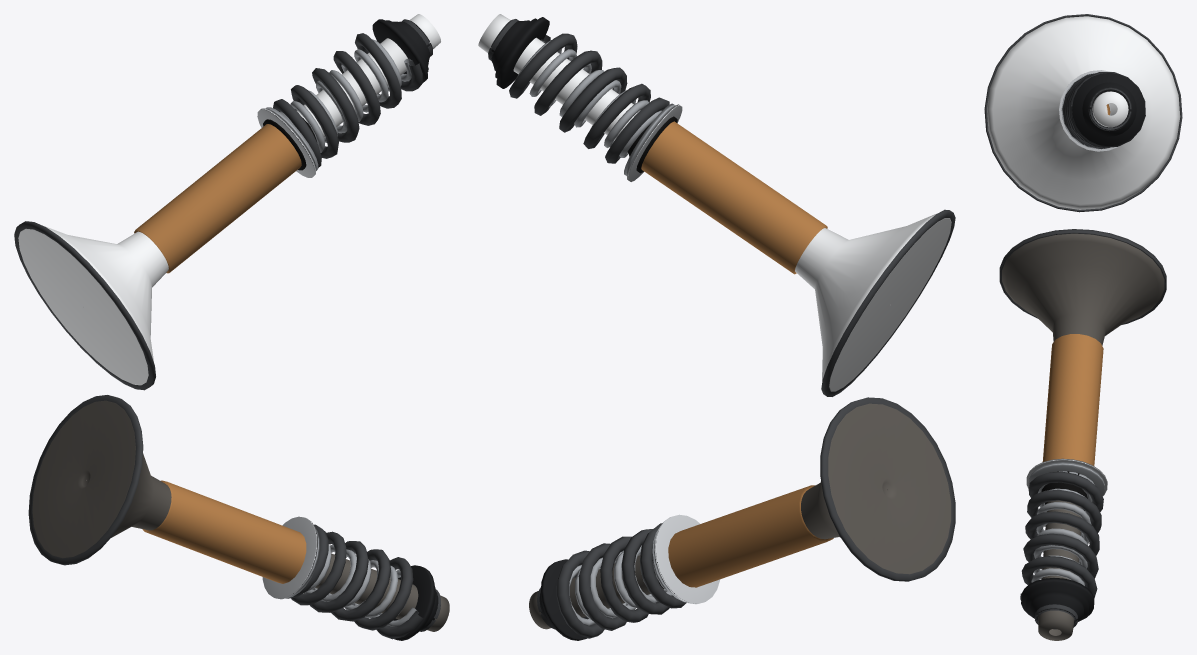
Rendered from valve-set-1.glb.
3 renders of one model, left to right at view 1: azimuth 30°, elevation 25°; view 2: azimuth 150°, elevation 25°; view 3: azimuth 270°, elevation 25°, orthographic. The views are drawn at different scales.
Visible parts, largest first — view 1: valve-set-1:bronze, valve-set-1:darkSteel, valve-set-1:chrome, valve-set-1:heatSteel, valve-set-1:steel, valve-set-1:satinBlack, valve-set-1:polishedSteel; view 2: valve-set-1:bronze, valve-set-1:darkSteel, valve-set-1:heatSteel, valve-set-1:chrome, valve-set-1:steel, valve-set-1:satinBlack, valve-set-1:polishedSteel; view 3: valve-set-1:chrome, valve-set-1:heatSteel, valve-set-1:darkSteel, valve-set-1:bronze, valve-set-1:satinBlack, valve-set-1:steel, valve-set-1:polishedSteel, valve-set-1:rubber.
Boxes of the visible parts, x1=… form: valve-set-1:bronze: x1=134, y1=124, x2=306, y2=583; valve-set-1:darkSteel: x1=14, y1=19, x2=440, y2=639; valve-set-1:chrome: x1=18, y1=14, x2=440, y2=385; valve-set-1:heatSteel: x1=32, y1=400, x2=449, y2=631; valve-set-1:steel: x1=266, y1=39, x2=416, y2=626; valve-set-1:satinBlack: x1=372, y1=19, x2=438, y2=640; valve-set-1:polishedSteel: x1=257, y1=108, x2=317, y2=599; valve-set-1:bronze: x1=641, y1=121, x2=833, y2=587; valve-set-1:darkSteel: x1=488, y1=19, x2=955, y2=638; valve-set-1:heatSteel: x1=529, y1=403, x2=951, y2=629; valve-set-1:chrome: x1=478, y1=14, x2=951, y2=391; valve-set-1:steel: x1=516, y1=40, x2=685, y2=625; valve-set-1:satinBlack: x1=491, y1=17, x2=588, y2=640; valve-set-1:polishedSteel: x1=627, y1=104, x2=720, y2=604; valve-set-1:chrome: x1=987, y1=16, x2=1180, y2=209; valve-set-1:heatSteel: x1=1002, y1=233, x2=1164, y2=640; valve-set-1:darkSteel: x1=984, y1=14, x2=1182, y2=627; valve-set-1:bronze: x1=1042, y1=104, x2=1110, y2=465; valve-set-1:satinBlack: x1=1021, y1=73, x2=1145, y2=629; valve-set-1:steel: x1=1028, y1=73, x2=1108, y2=585; valve-set-1:polishedSteel: x1=1026, y1=70, x2=1119, y2=495; valve-set-1:rubber: x1=1041, y1=471, x2=1087, y2=510.
Bounding box in the file's own units: 111 × 155 × 49.48.
